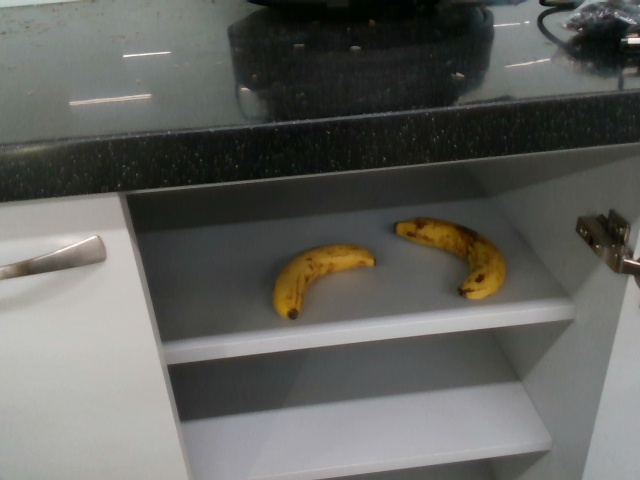banana: (391, 215, 507, 303), (271, 241, 376, 321)
